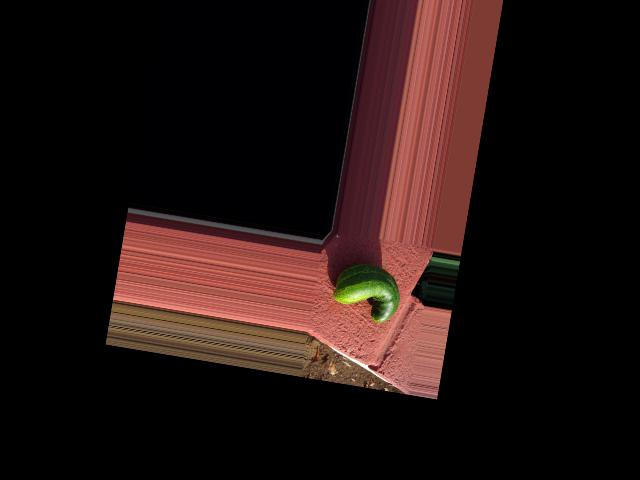cucumber: (330, 259, 404, 326)
